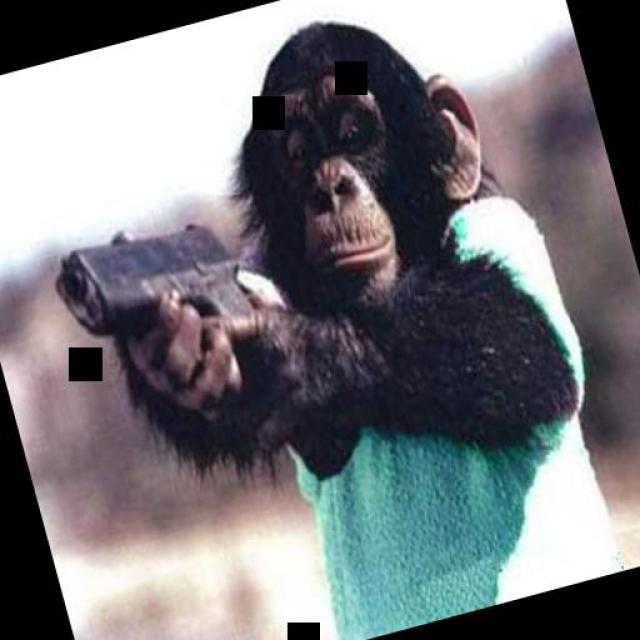gun: (42, 201, 260, 370)
